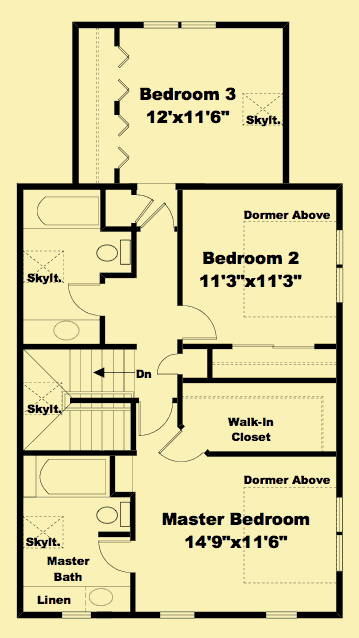door: (171, 301, 220, 344), (154, 429, 207, 467), (135, 397, 179, 439), (96, 537, 139, 578), (135, 202, 176, 241), (128, 187, 153, 234), (154, 351, 185, 380)
large sink: (93, 494, 138, 534), (93, 234, 135, 270)
small sink: (37, 319, 90, 348), (83, 585, 125, 613)
stairs: (19, 344, 139, 458)
tub: (22, 455, 111, 501), (26, 190, 106, 232), (60, 280, 110, 319)
windows: (328, 491, 349, 580), (139, 18, 219, 35), (331, 224, 347, 309), (151, 608, 199, 623), (261, 608, 301, 624), (57, 607, 93, 624)
